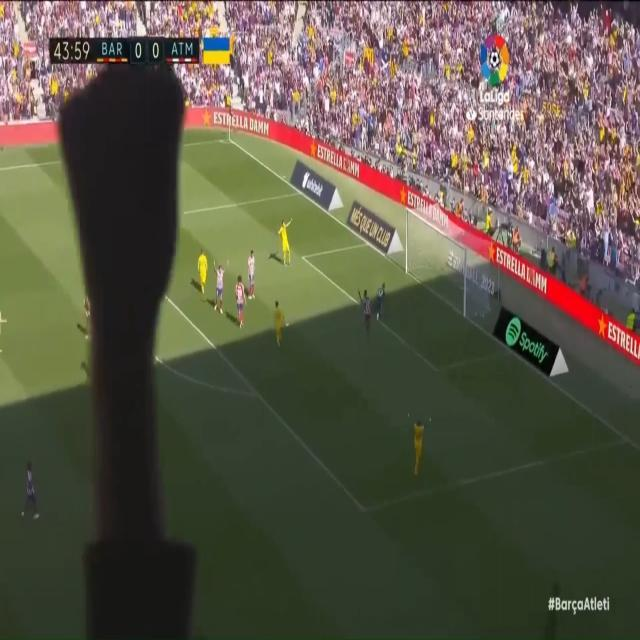goalkeeper: (374, 284, 390, 323)
player: (402, 412, 439, 483), (21, 458, 46, 537), (209, 256, 233, 324), (228, 273, 248, 331), (245, 243, 263, 299), (277, 219, 296, 271), (359, 286, 375, 337), (196, 246, 210, 303), (273, 296, 288, 344), (82, 294, 91, 335)
